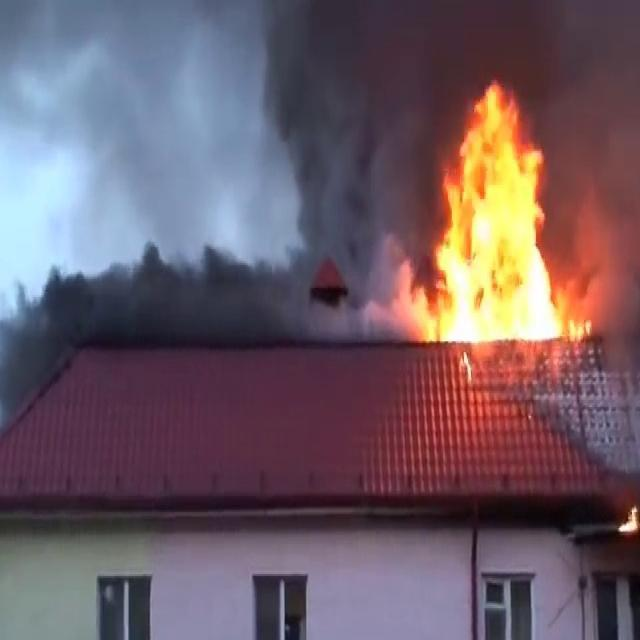Fire: (398, 75, 595, 358)
Smoke: (243, 1, 471, 273)
